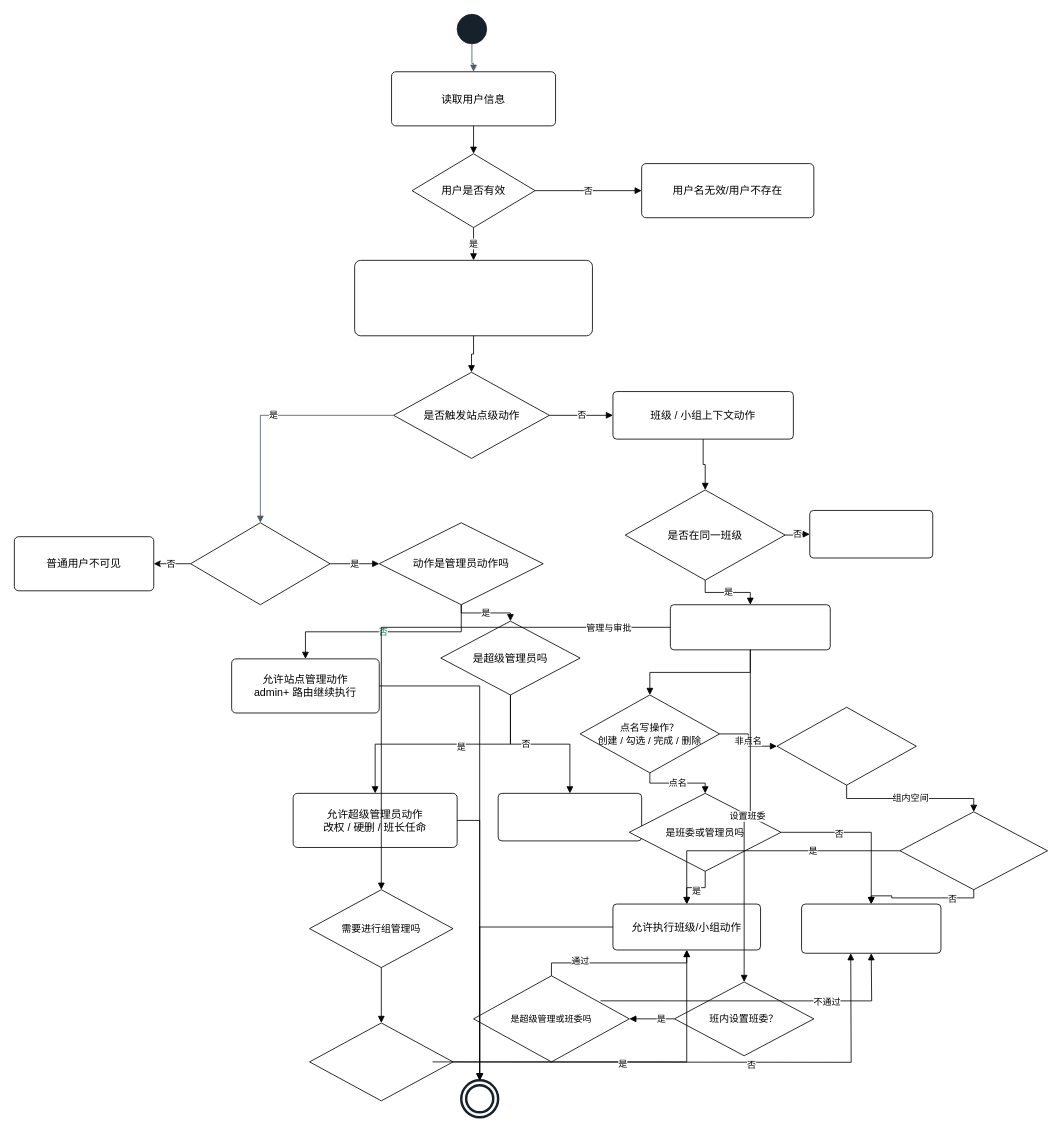
Image size: 1062x1132. Some labels were removed from this diagram. The centre of each missing label's shape, as x and y in pixels:
"动作类型分派" goes at point 750,627.
"拒绝 操作仅班委 / 组长 / 小组成员允许" goes at point 871,928.
"拒绝操作，需要超管权限" goes at point 569,817.
"拒绝，小组不可见" goes at point 871,534.
"是管理员吗" goes at point 260,563.
"是组内成员或班委或管理员吗" goes at point 973,850.
"用户是班委或管理员吗" goes at point 381,1061.
"组内空间读写？ 文件 / 甘特任务" goes at point 846,745.
"通过计算权来确定用户可用操作" goes at point 473,298.
